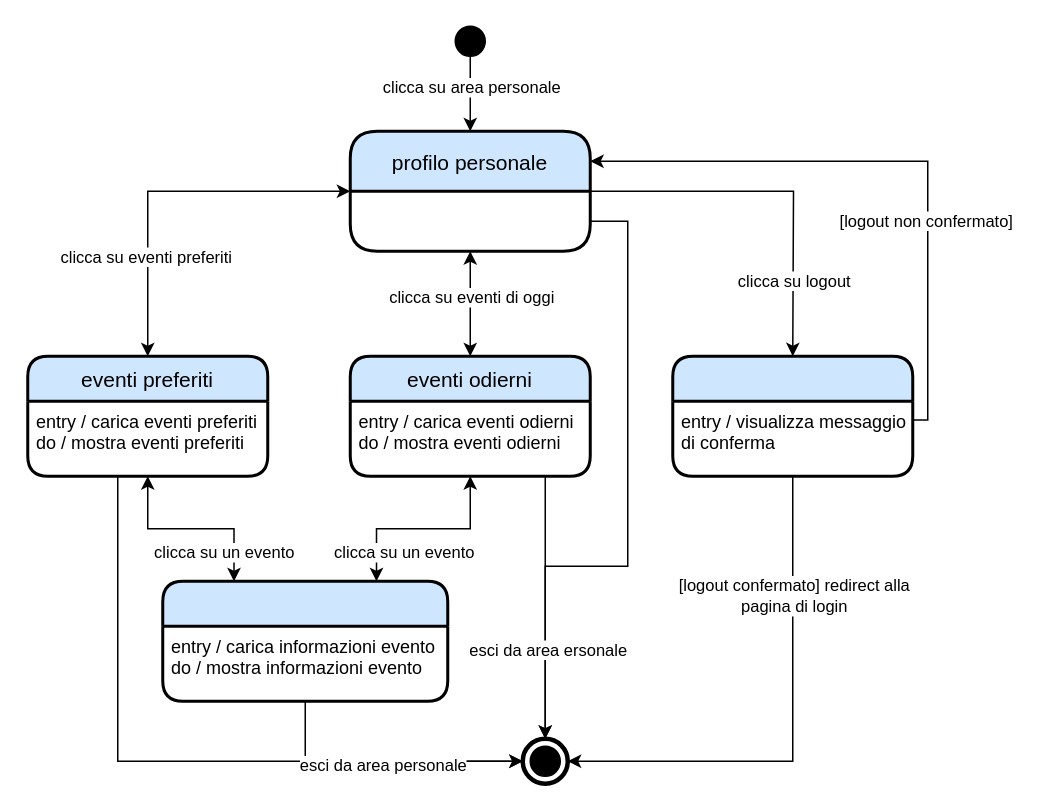
The diagram is 1038 pixels wide and 812 high, and some of its shapes have lost their labels. The shapes that lost their labels are listed below. From the top down, each one's box as (x1, y1, x2, y2) in pixels, then its label:
(670, 354, 914, 477): logout
(160, 579, 448, 702): visualizza evento
